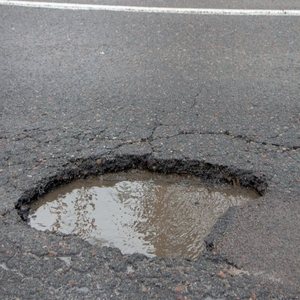pothole: (13, 151, 271, 267)
